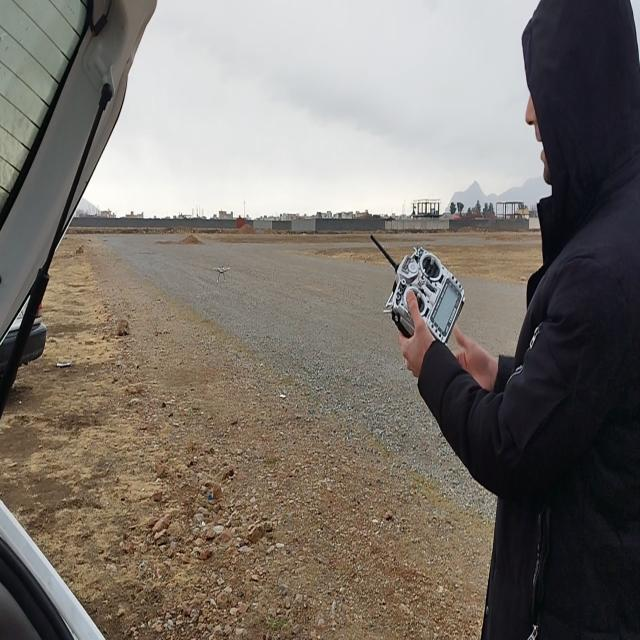drone: (212, 261, 231, 284)
